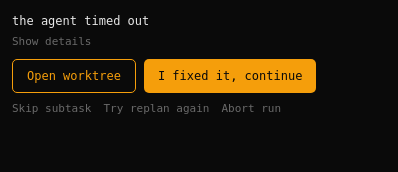
it: EscalationActions — skip › leaf subtask skips show the short copy
Click the button with test id "escalation-skip-trigger". click: (52, 109)
box: [12,100,92,117]
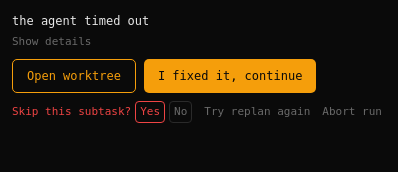
Expected: the text "Skip this subtask?" is shown, [12,104,131,120]
